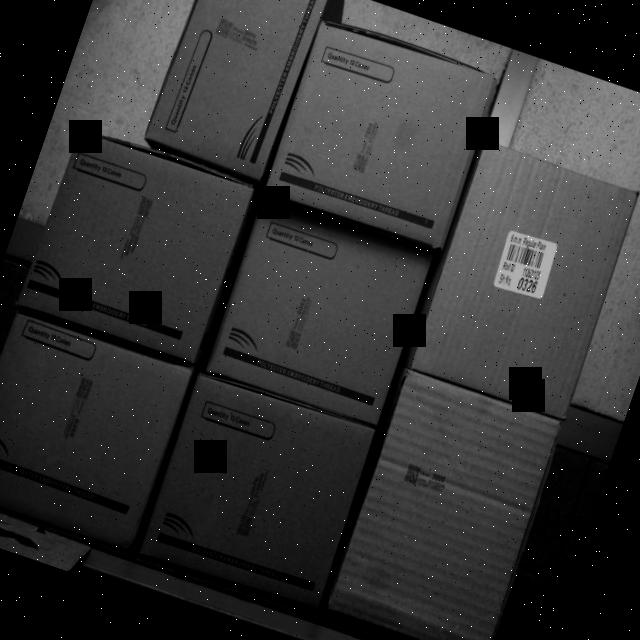box: (403, 135, 640, 424), (324, 368, 569, 640), (132, 367, 378, 613), (260, 20, 502, 252), (19, 130, 258, 362), (202, 192, 438, 424), (0, 310, 192, 555), (142, 0, 328, 185)
